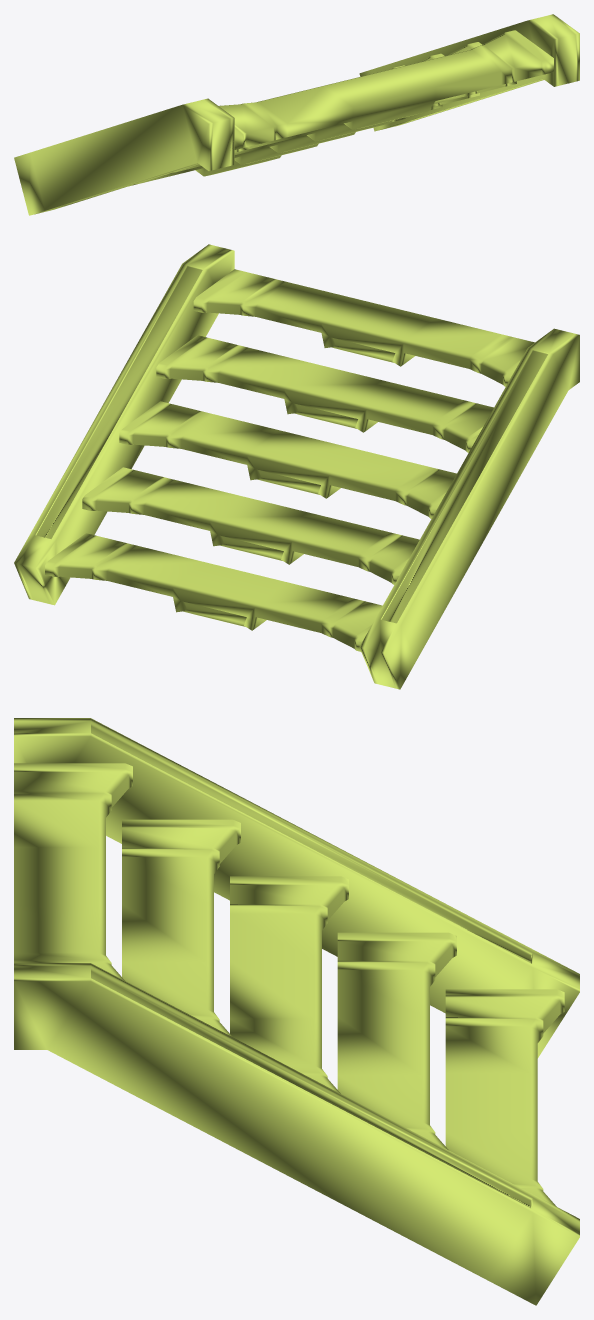
The model's file is Final de la escalera.fbx.
3 views of the same model, one above another, from view 1: azimuth 30°, elevation 25°; view 2: azimuth 150°, elevation 25°; view 3: azimuth 270°, elevation 25° (orthographic). The views are drawn at different scales.
Visible parts, largest first — view 1: Tile final de escalera.004; view 2: Tile final de escalera.004; view 3: Tile final de escalera.004.
Part boxes in pixels (x1,y1,x2,y2): Tile final de escalera.004: (14,14,579,215); Tile final de escalera.004: (14,244,579,689); Tile final de escalera.004: (14,718,579,1305).
Bounding box in the file's own units: 200 × 115 × 182.
